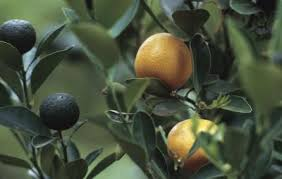orange: (132, 31, 195, 92), (160, 113, 222, 168)
